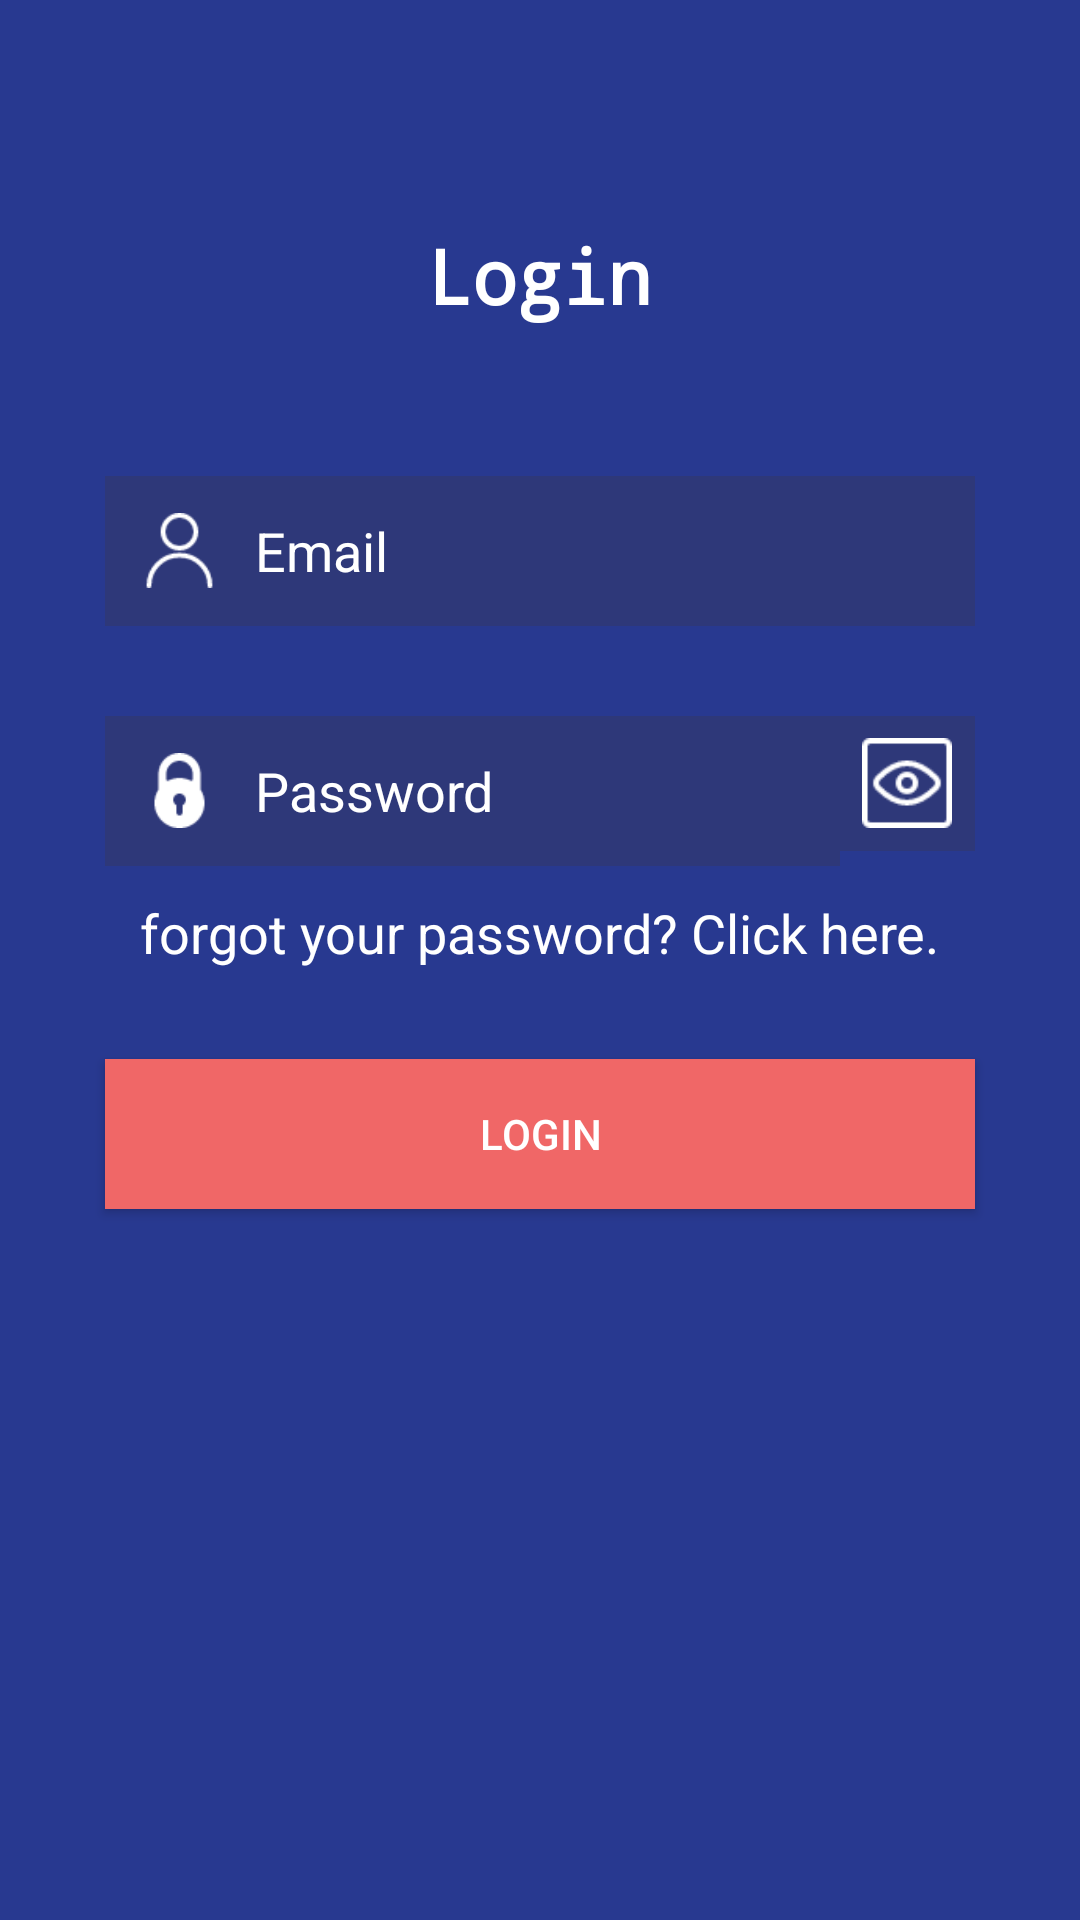

Icon bounding boxes for this 1080×1920 phone screenshot, format (x1, y1, x2, y2):
eye: (862, 738, 952, 828)
lock: (154, 753, 205, 828)
user: (146, 513, 213, 588)
